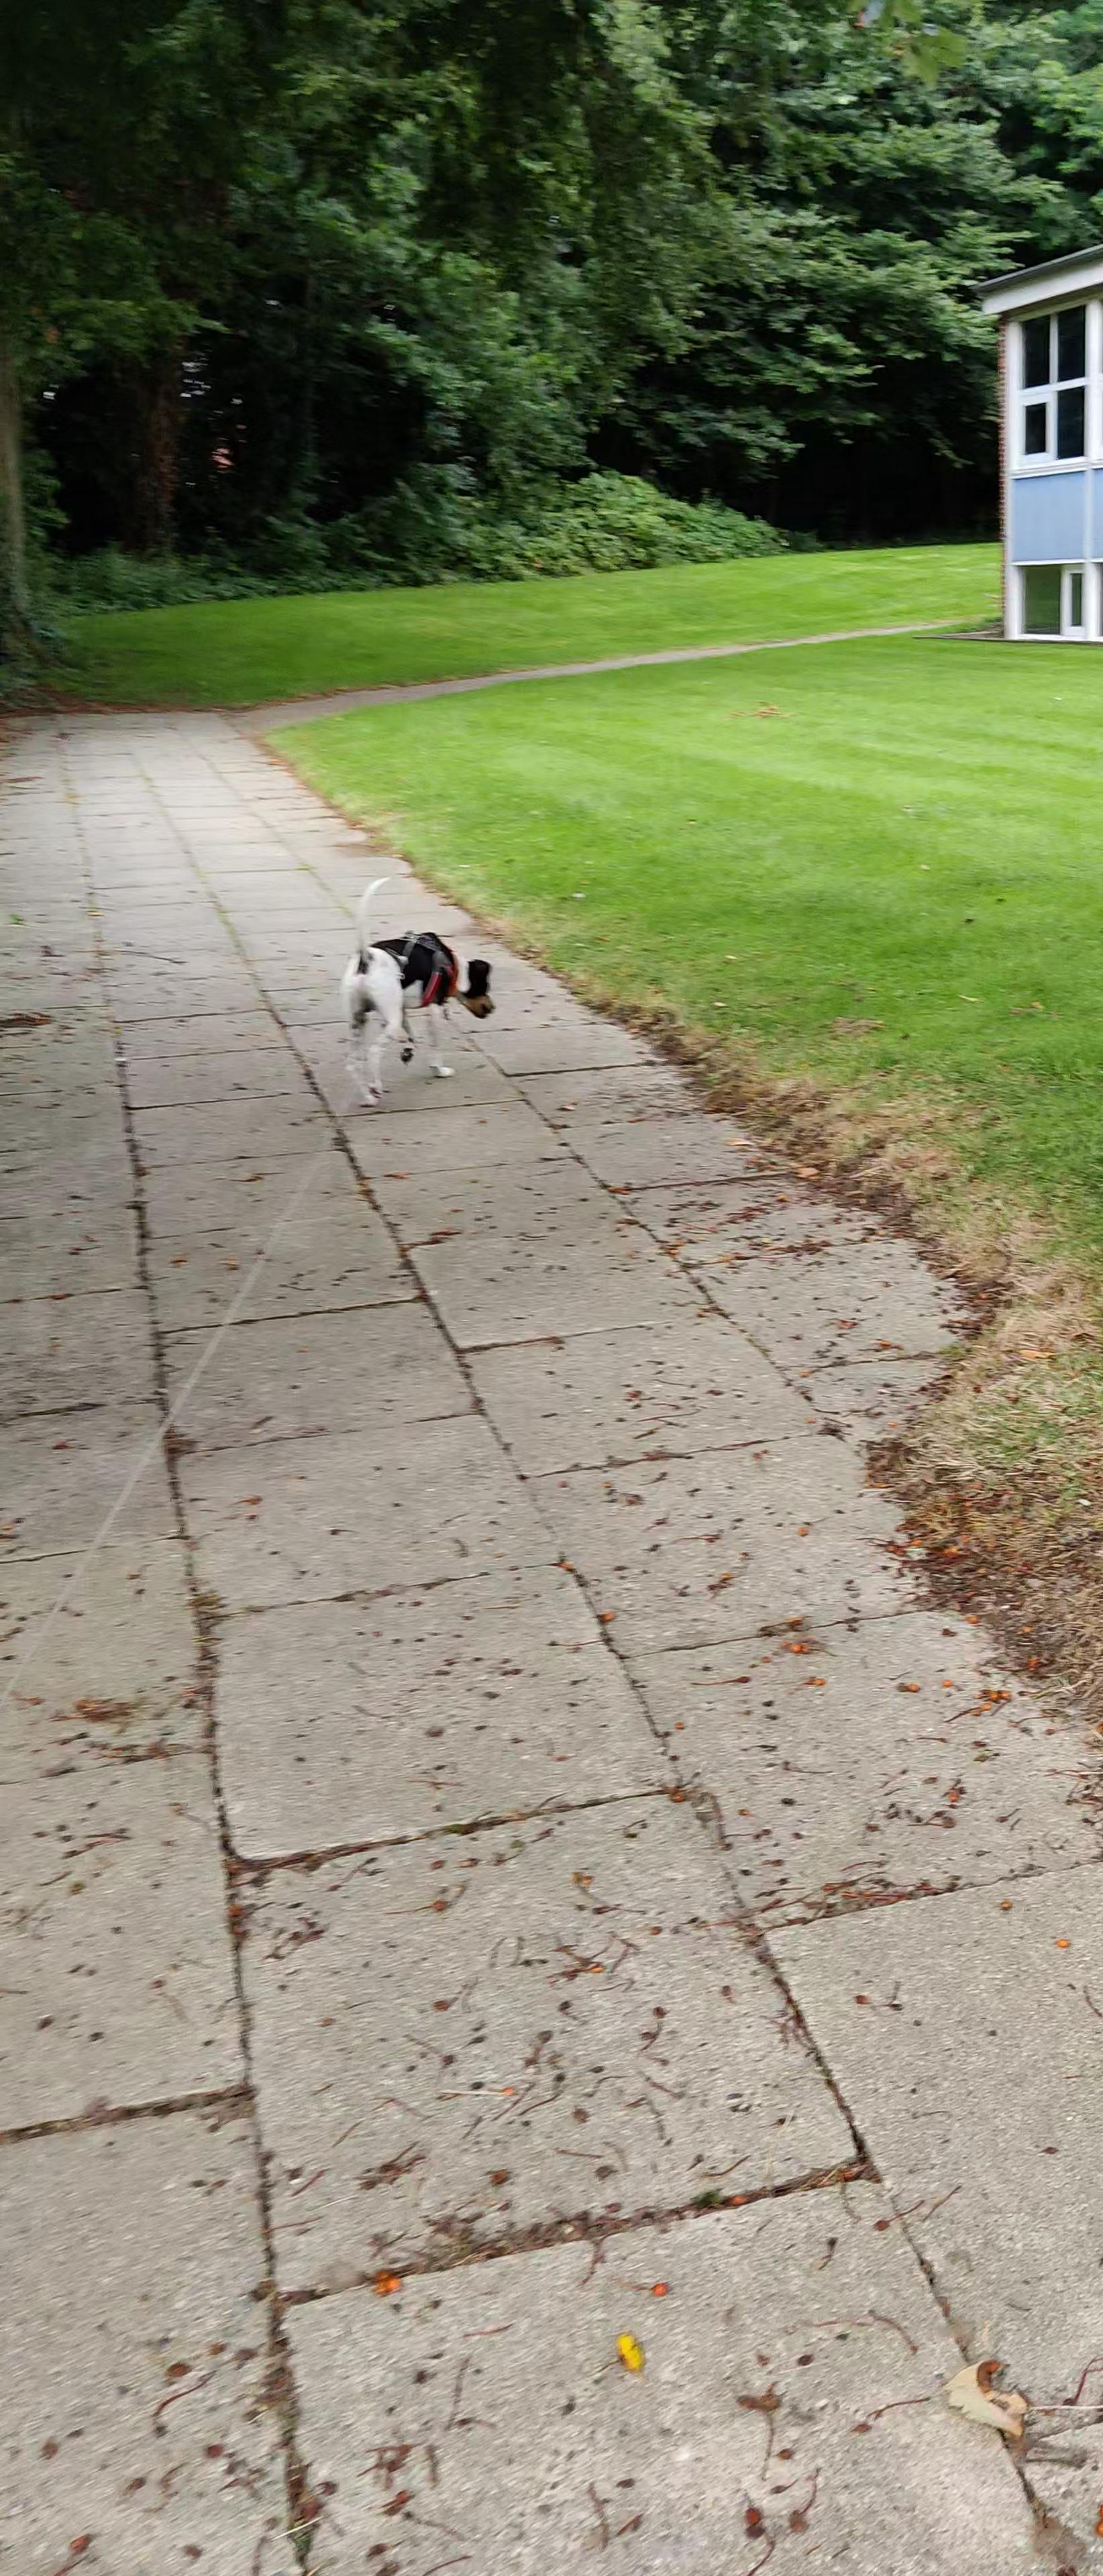Dog: (329, 867, 506, 1112)
